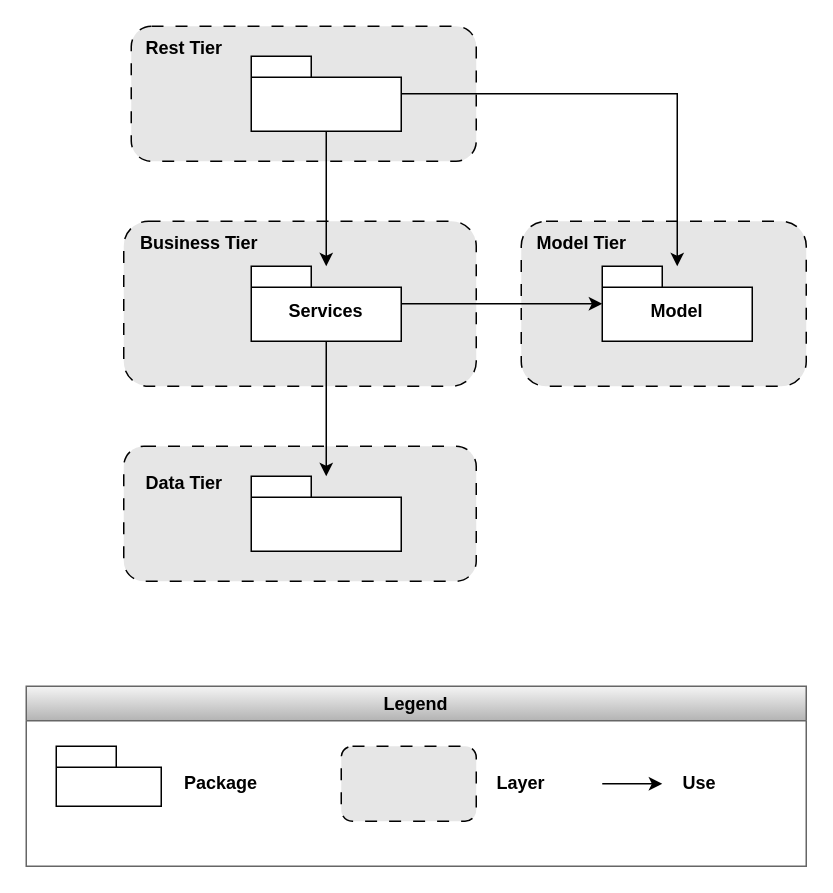
Image size: 833x893. Some labels were removed from this diagram. Here are the shapes that lost their labels. From the top down, the centre of each, then its label:
At (x=325, y=93): "Controllers".
At (x=325, y=513): "DAO".
